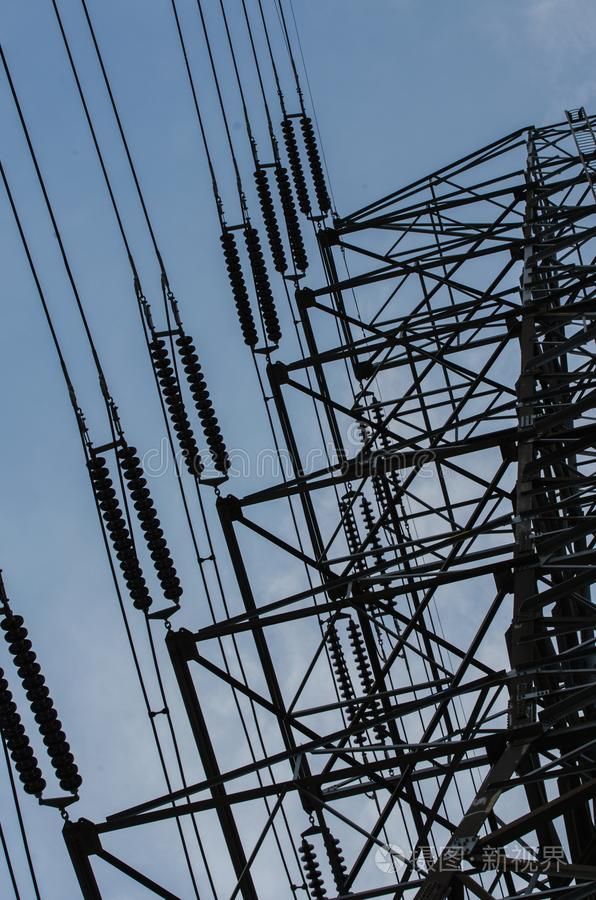insulator: (1, 612, 87, 795), (87, 447, 183, 607), (147, 326, 231, 480), (220, 223, 284, 348), (325, 616, 386, 741), (250, 165, 309, 274), (279, 109, 333, 217), (351, 398, 402, 503), (338, 494, 389, 570), (298, 835, 351, 900)
